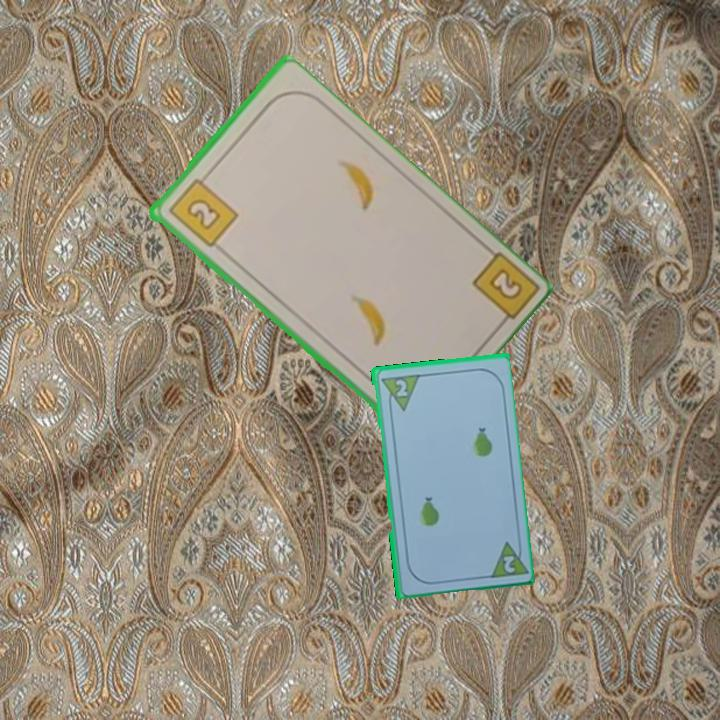2b: (467, 248, 539, 334), (164, 170, 240, 251)
2p: (390, 375, 410, 399), (499, 552, 519, 576)
